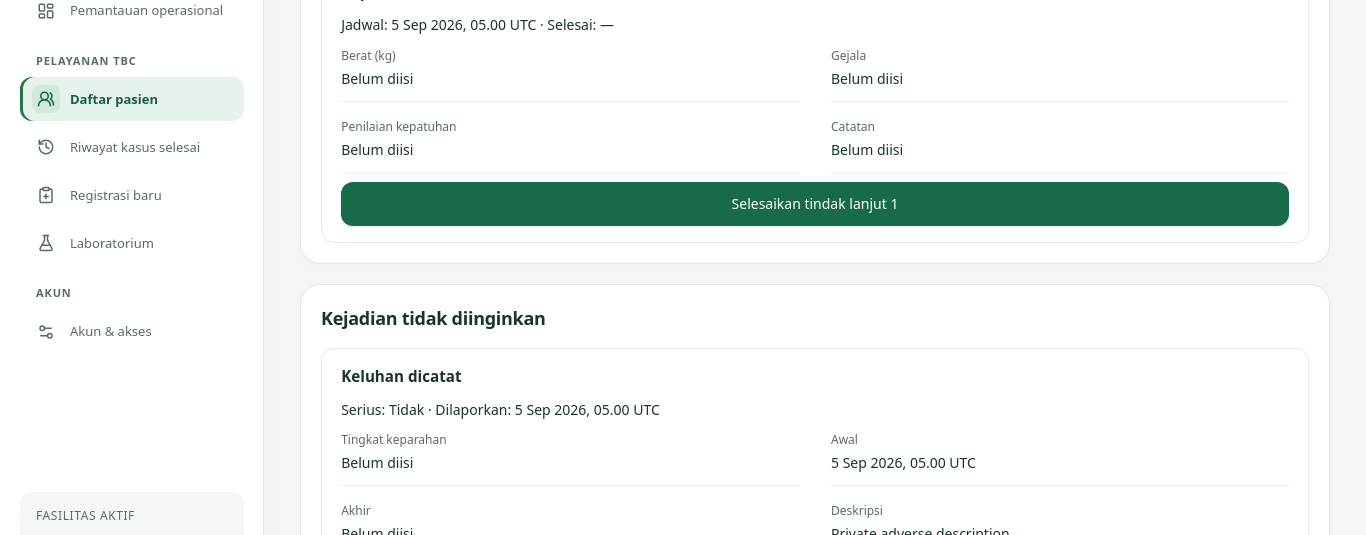
Test: follow-up completion uses child version and explicit fields
(page scrolled)
Click the button "Selesaikan tindak lanjut 1" at (815, 204), box x1=341 y1=182 x2=1289 y2=226
(page scrolled)
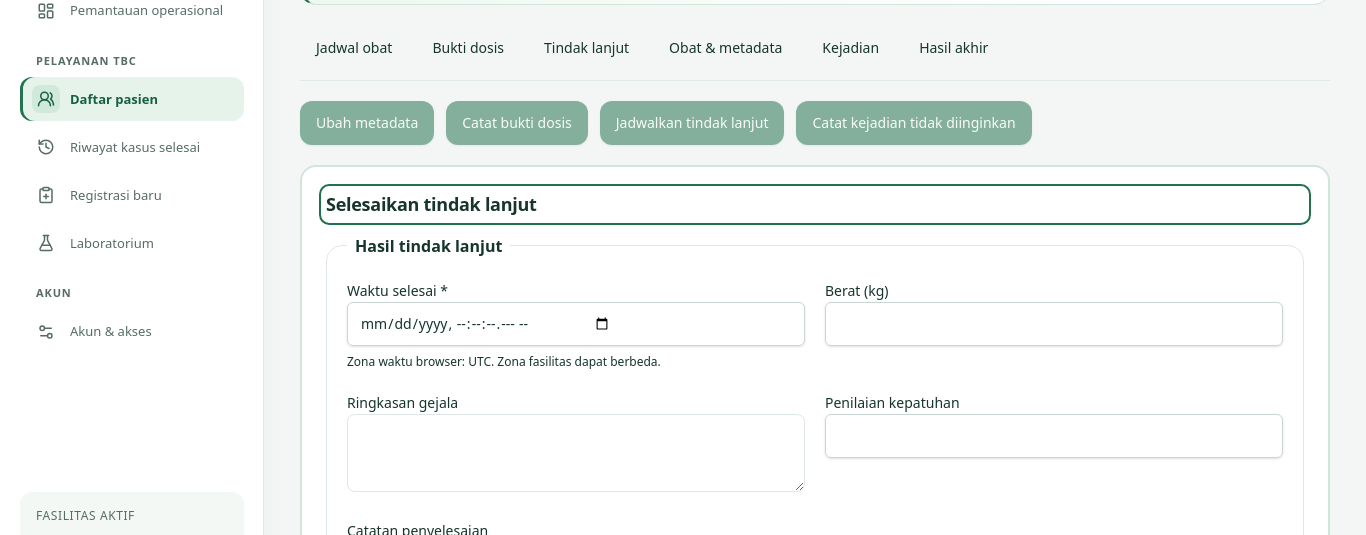
Type "2026-09-06T12:00" into the field labelled "Waktu selesai *" at (576, 324), box x1=347 y1=302 x2=805 y2=346
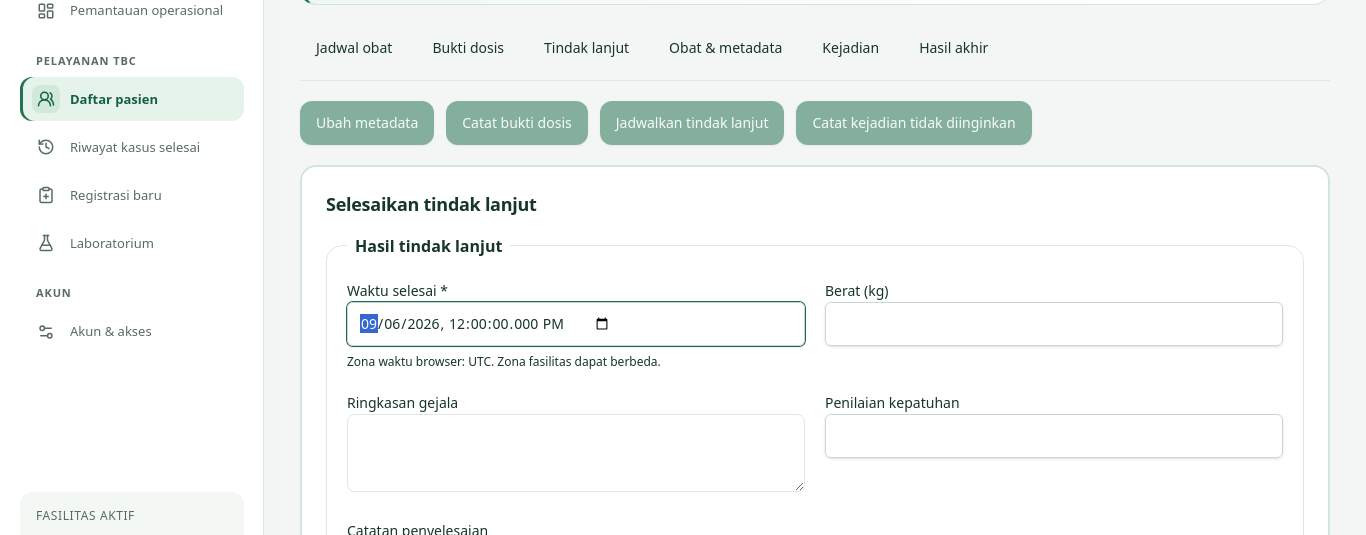
Type "Narasi tanpa interpretasi" into the text box labelled "Ringkasan gejala" at (576, 453), box x1=347 y1=414 x2=805 y2=492
(page scrolled)
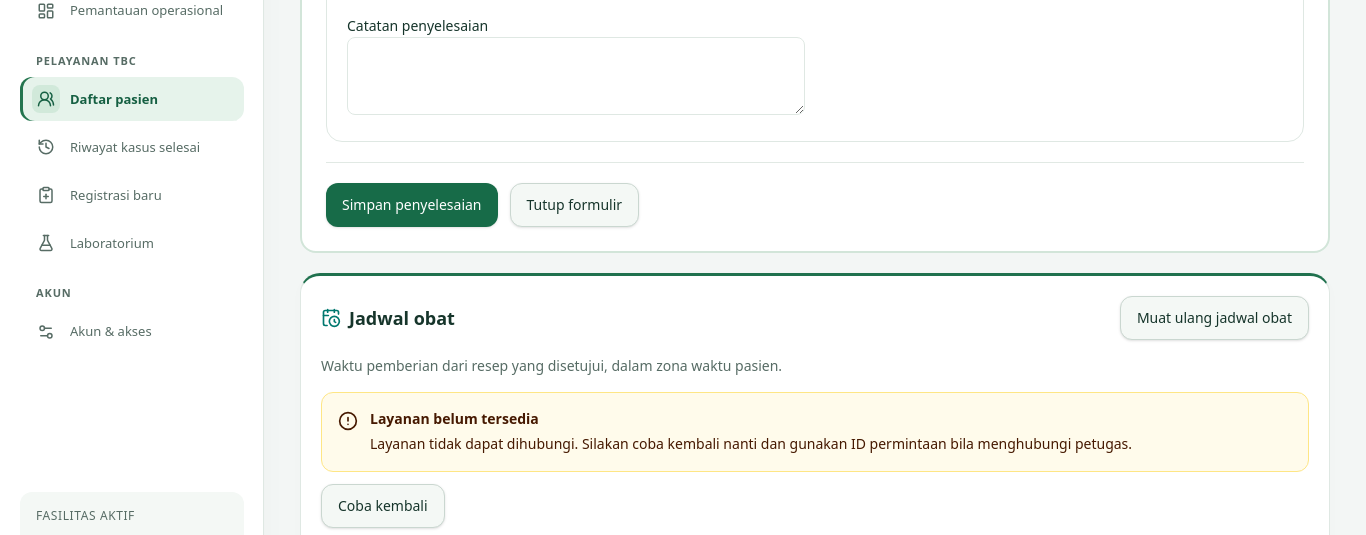
Click the button "Simpan penyelesaian" at (412, 205), box x1=326 y1=183 x2=498 y2=227
(page scrolled)
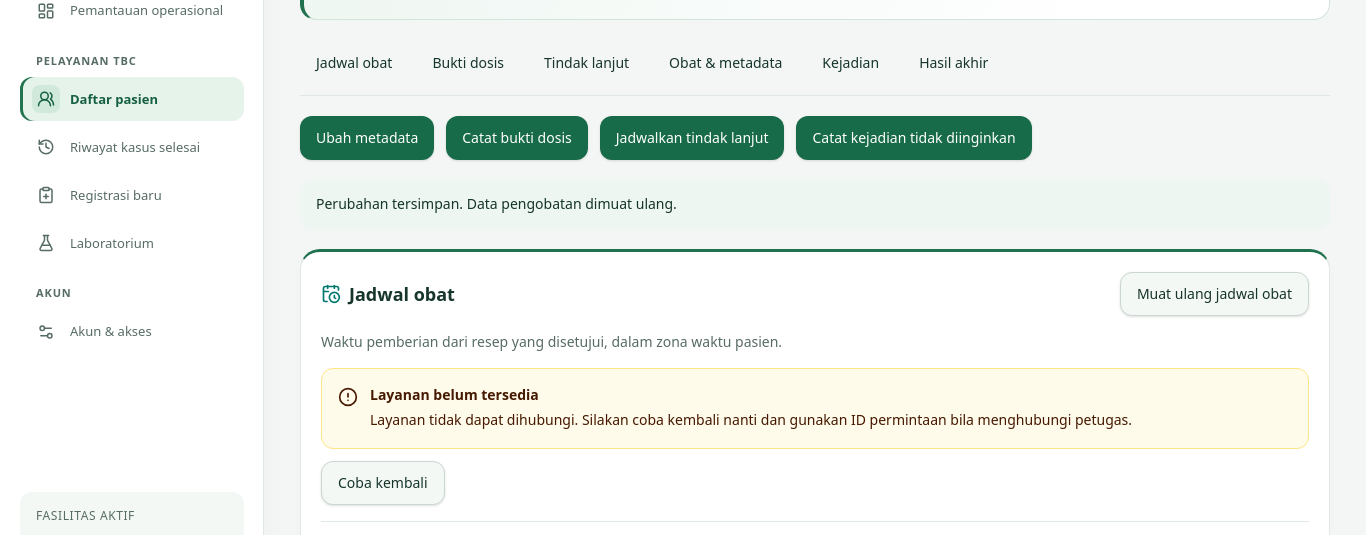
Check: the text "Perubahan tersimpan. Data pengobatan dimuat ulang." is shown, box x1=300 y1=180 x2=1330 y2=229
